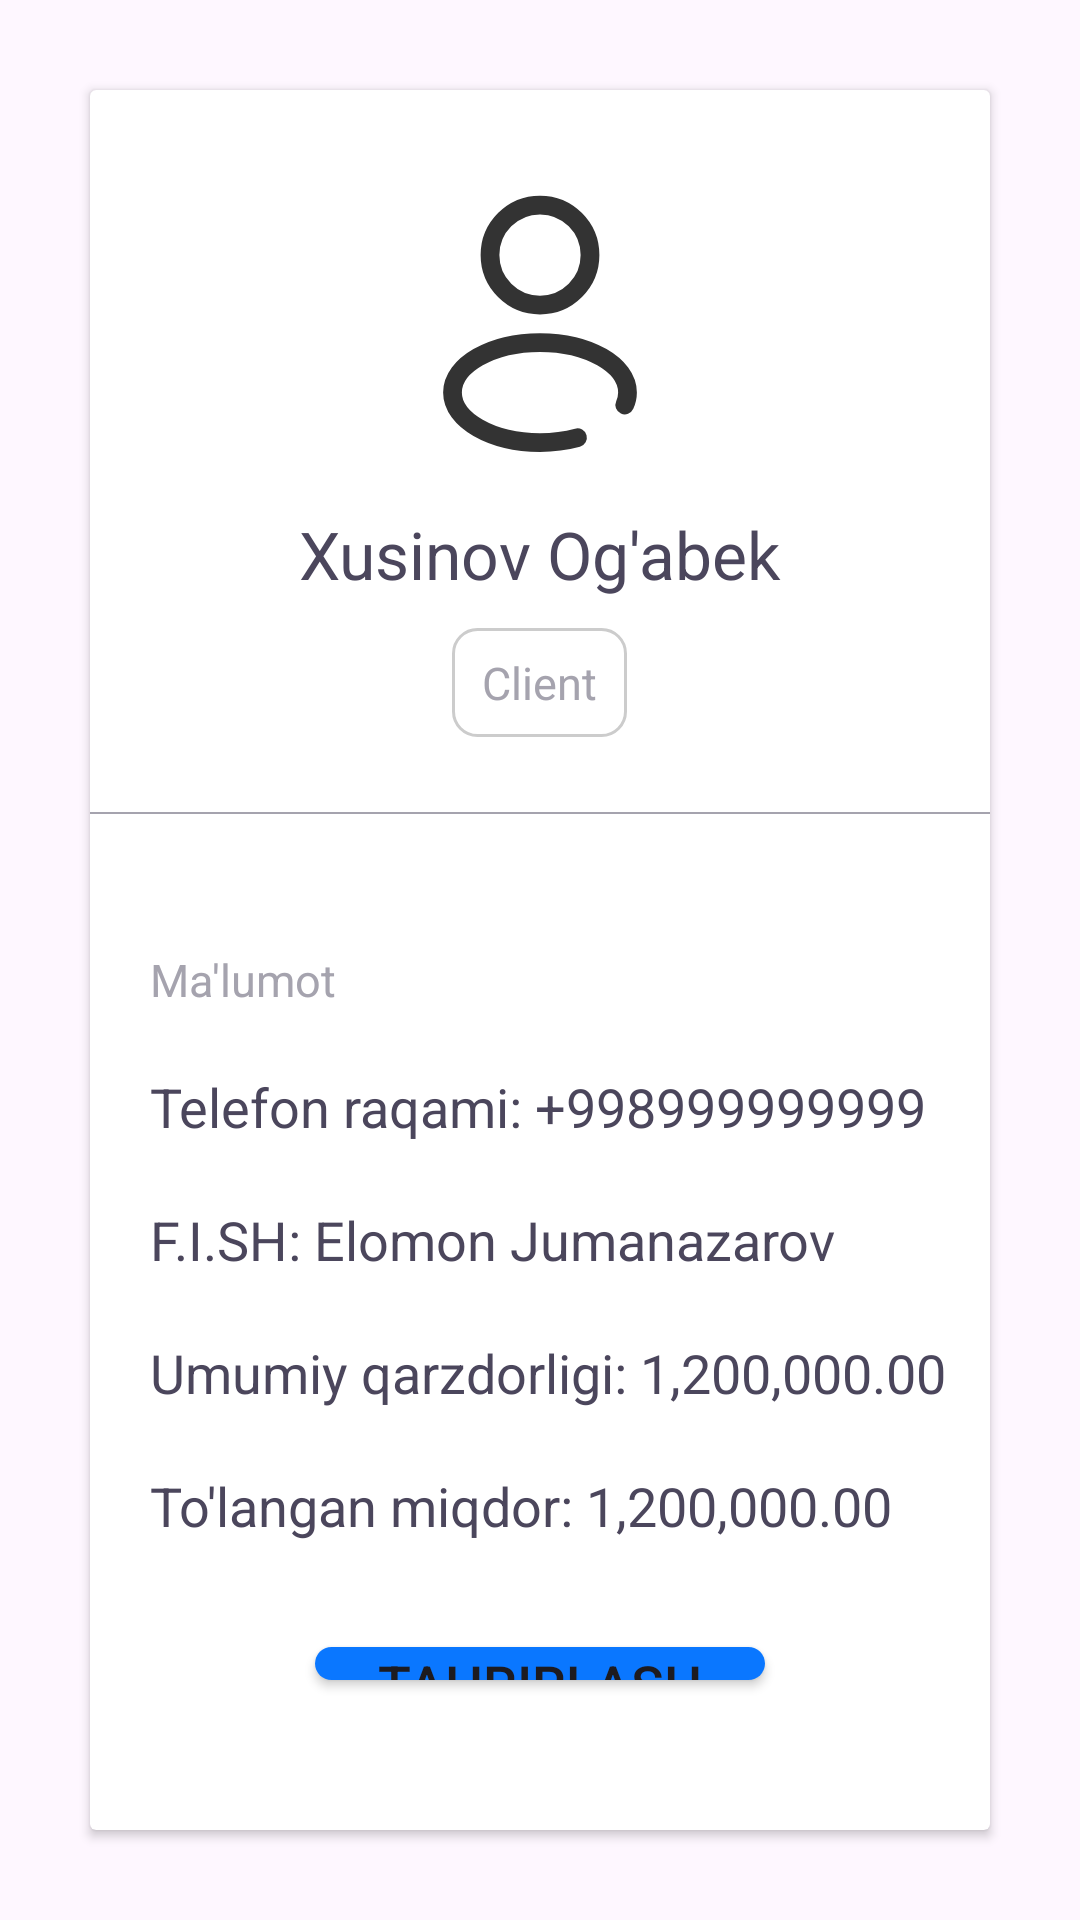

Icons on this 1080px x 1920px Android screen, each with its box as (x1=x1, y1=y1, x2=x2, y2=y2):
user rounded: (x1=443, y1=195, x2=637, y2=452)
